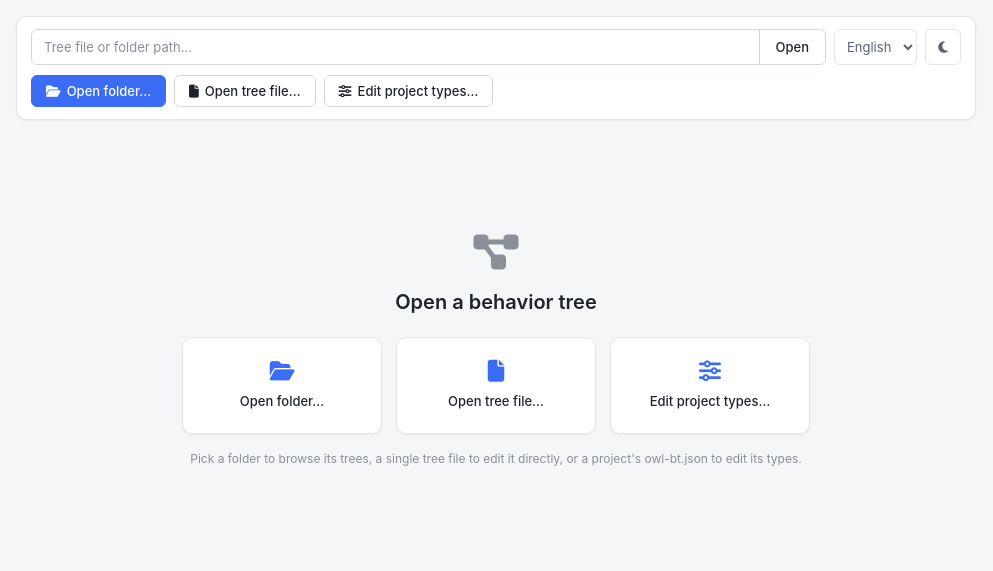
Test: Home › Open folder › opens the dialog, then lists the trees of the chosen folder
The width and height of the screenshot is (993, 571).
Click the 1st button "Open folder…" at point(98, 91), box [31,75,166,107]
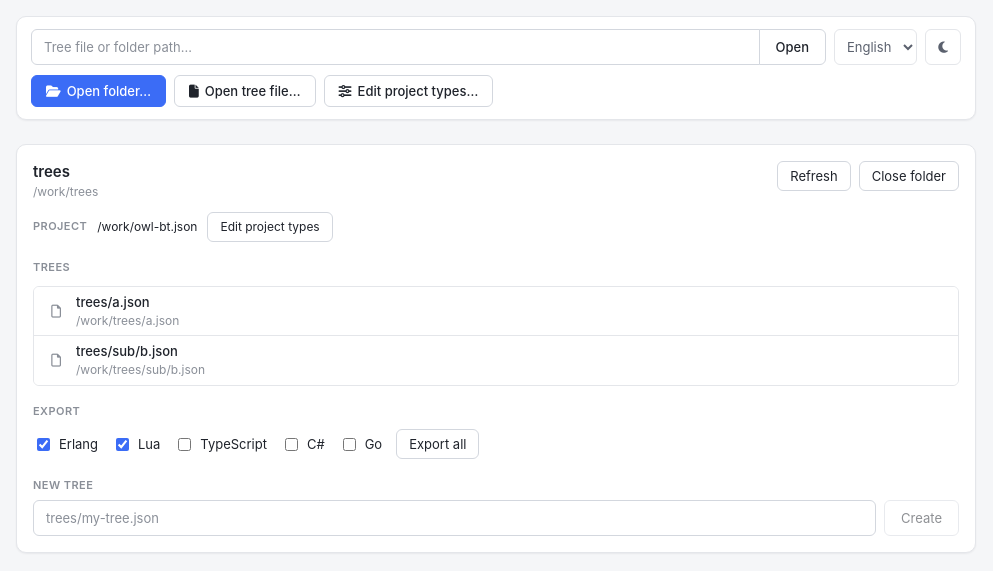
Result: the element named "Workspace" is shown
Result: the text "/work/owl-bt.json" is shown at [97,218,197,236]
Result: the link "trees/sub/b.json /work/trees/sub/b.json" is shown at [34,336,958,384]
